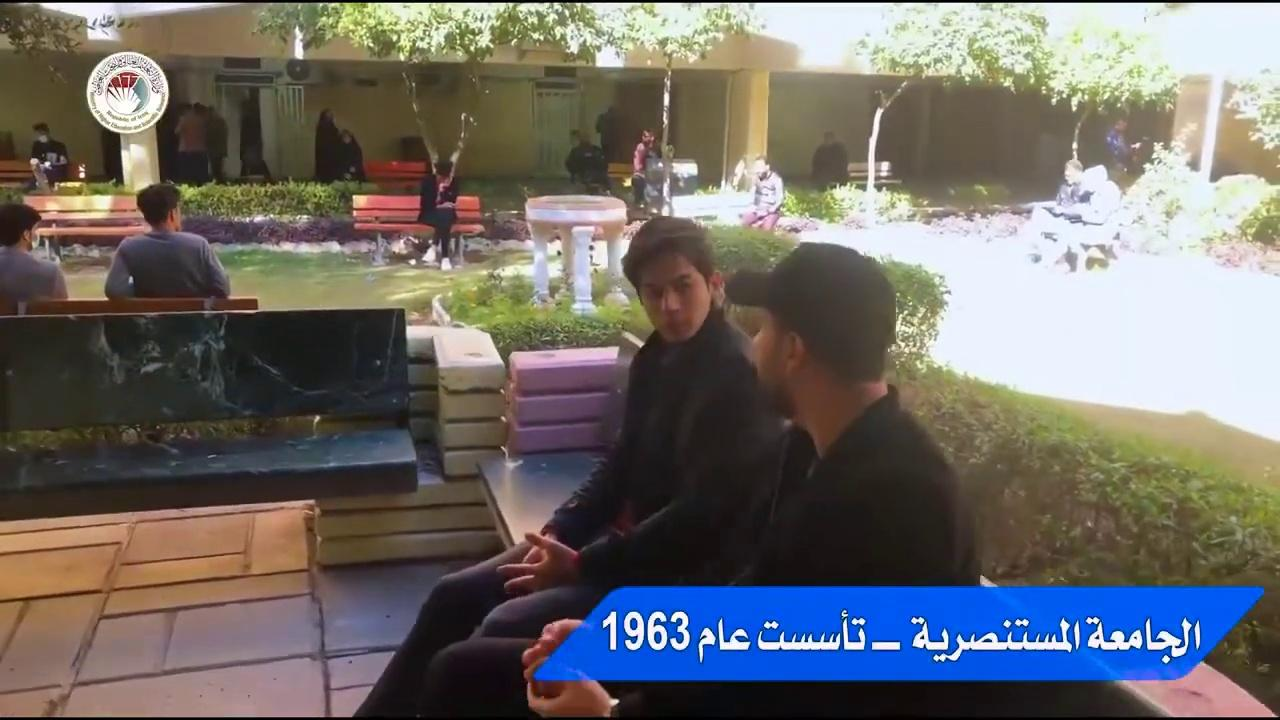fountain: (845, 78, 910, 225)
person: (518, 241, 981, 717), (351, 215, 772, 718), (103, 183, 230, 300), (0, 202, 68, 315), (417, 158, 459, 270), (738, 155, 784, 231), (172, 101, 213, 185), (564, 129, 610, 195), (28, 121, 68, 192), (811, 130, 848, 191), (631, 128, 659, 208), (1105, 114, 1141, 172), (313, 108, 341, 182), (335, 128, 365, 183), (1055, 158, 1089, 206)
tree: (251, 0, 621, 190), (853, 1, 1183, 192), (604, 1, 766, 213), (1033, 18, 1182, 177), (853, 1, 1052, 96), (0, 0, 90, 85), (1223, 65, 1279, 158)
